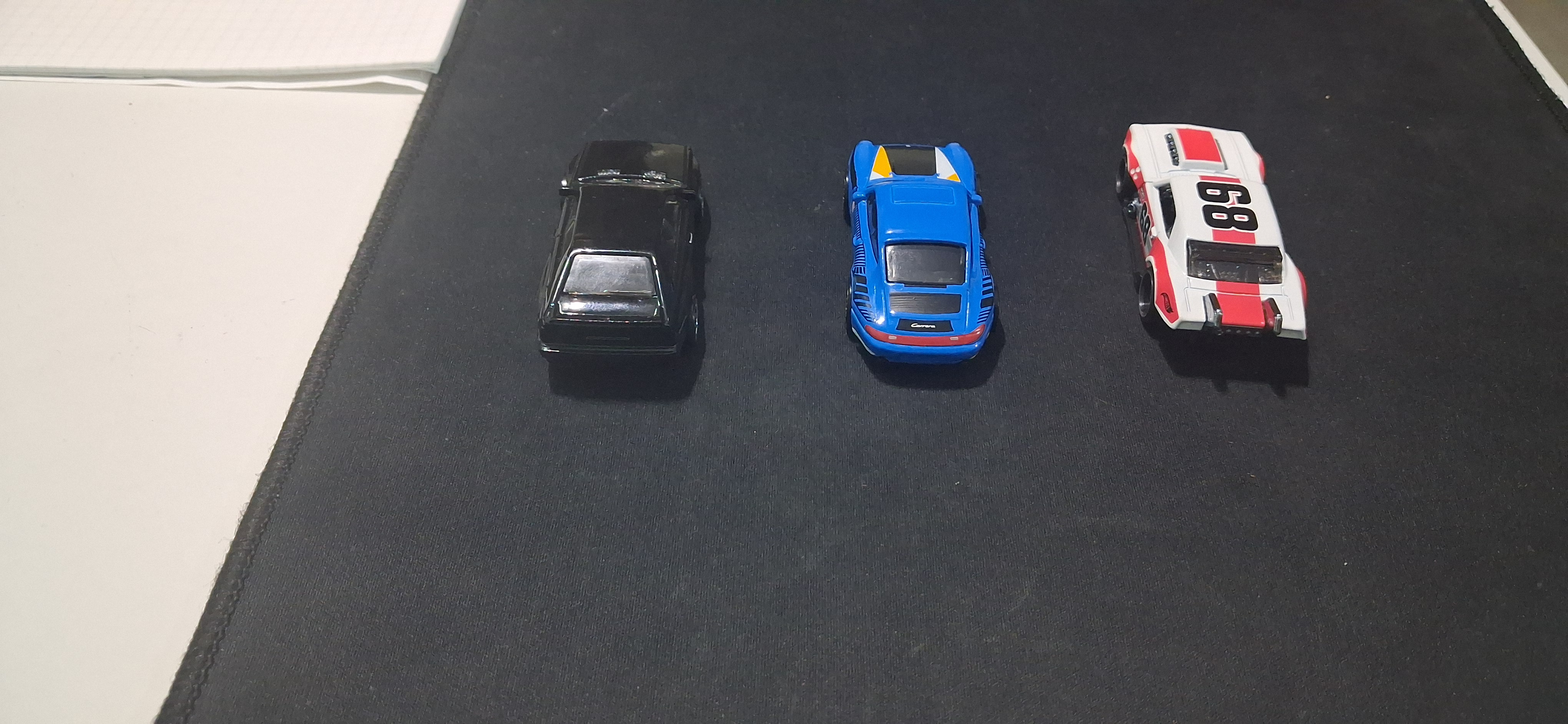Audi_Quattro: (522, 119, 717, 432)
Camaro: (1111, 94, 1311, 421)
Porsche_Carrera: (834, 116, 992, 426)
